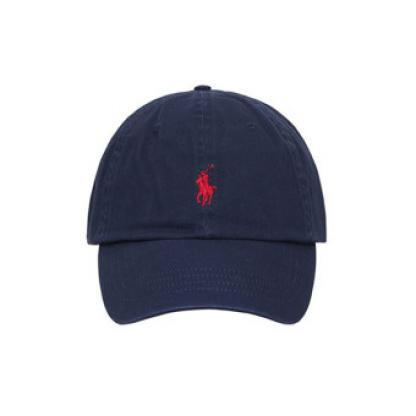cap: (71, 74, 332, 330)
